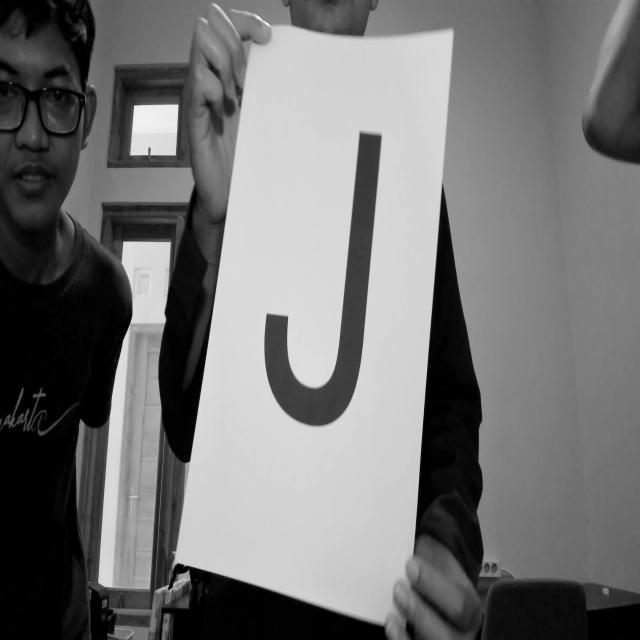j: (258, 117, 388, 437)
